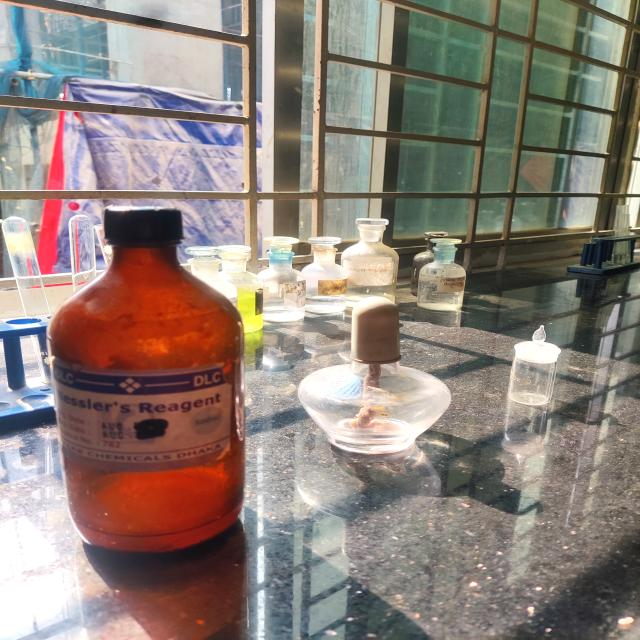Nessler_Reagent_Bottle: (22, 194, 276, 566)
Spirit_Lamp: (290, 290, 467, 468)
Weighing_Bottle: (497, 309, 576, 421)
